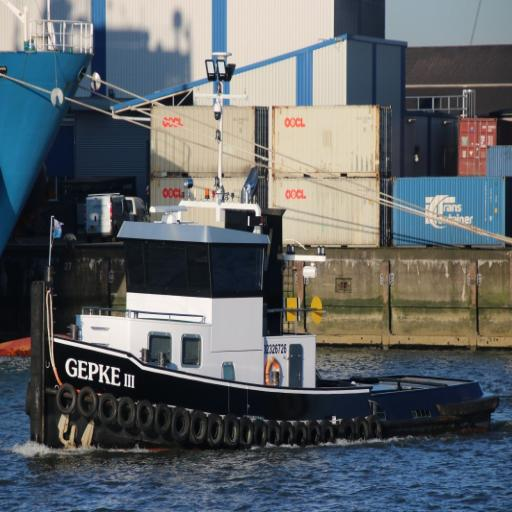tugboat: (24, 50, 503, 469)
